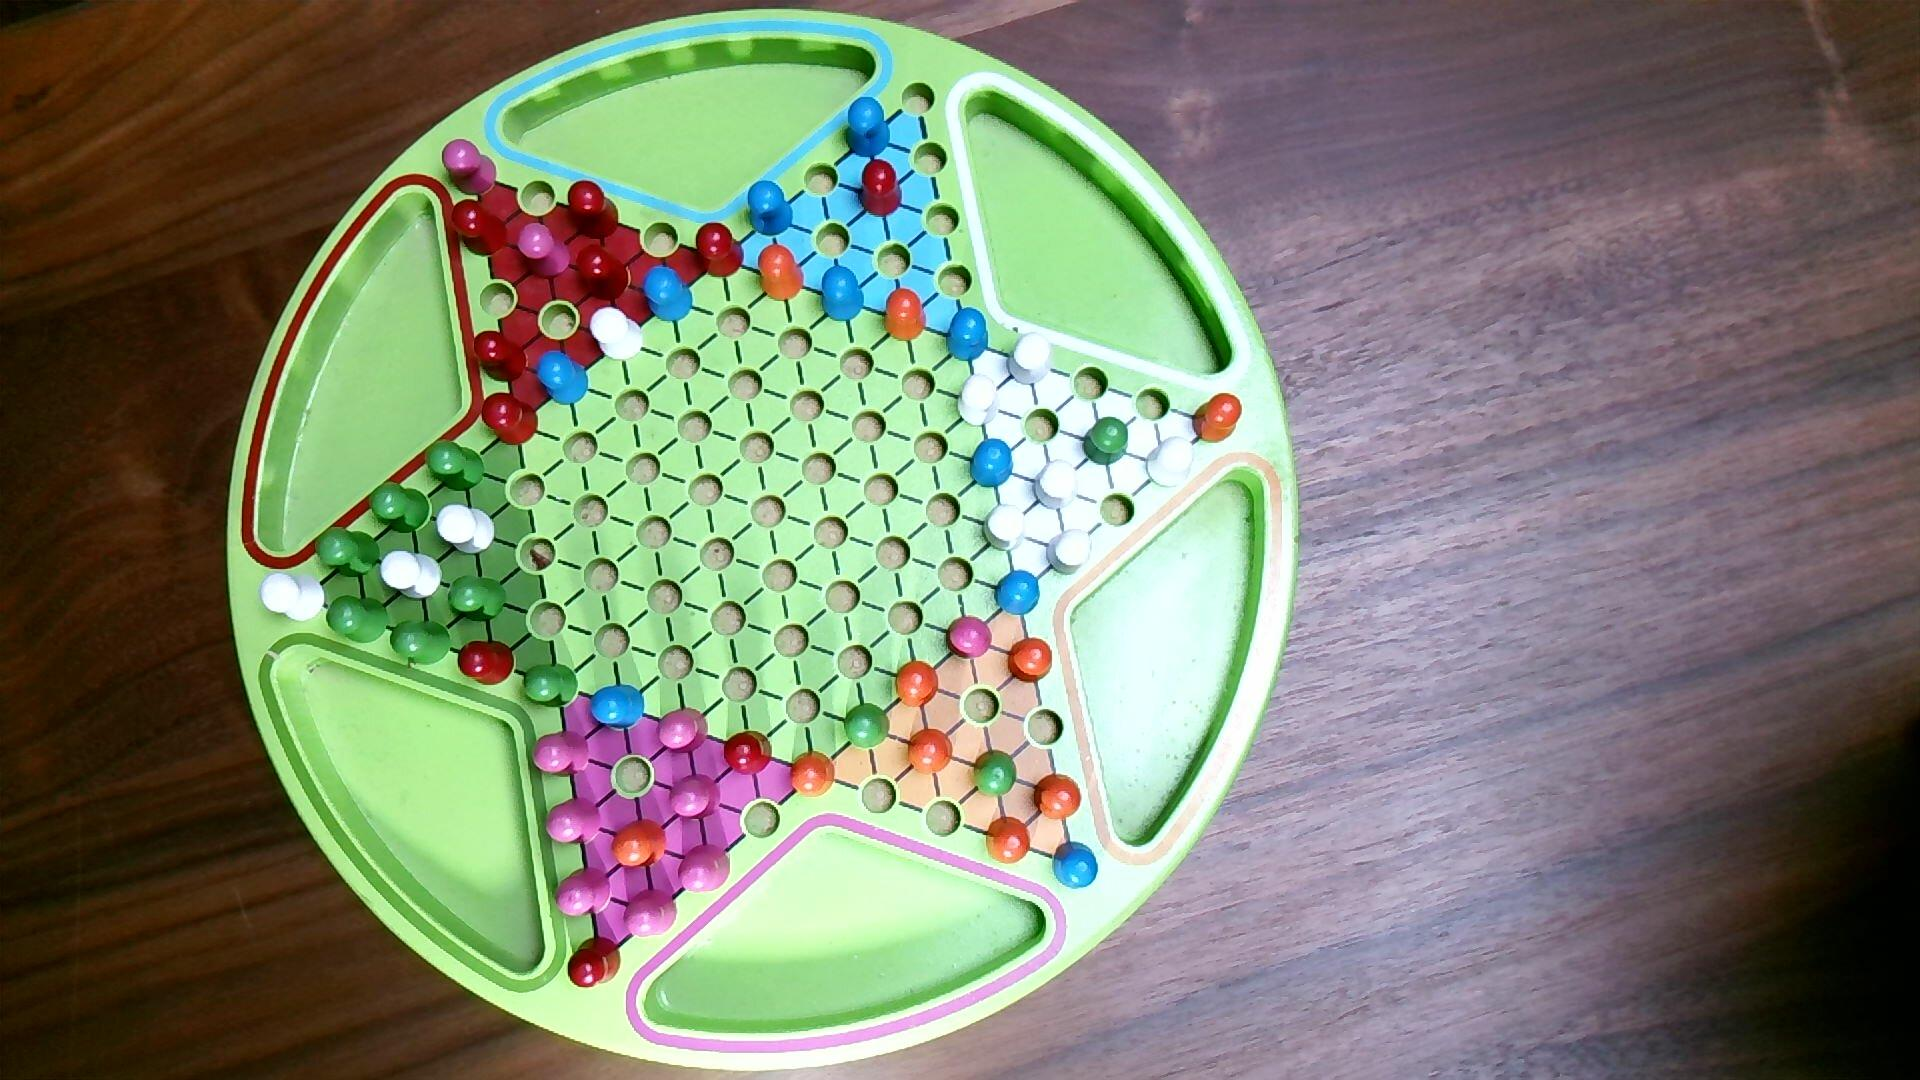B: (531, 347, 591, 409), (640, 261, 695, 324), (587, 680, 647, 735), (843, 95, 893, 160), (746, 178, 796, 240), (819, 262, 866, 326), (944, 306, 993, 364), (1051, 839, 1102, 893), (967, 436, 1015, 491), (993, 568, 1043, 618)
G: (313, 524, 382, 582), (367, 479, 434, 537), (422, 436, 487, 495), (324, 593, 392, 646), (444, 574, 510, 626), (520, 659, 582, 713), (389, 617, 454, 669), (1081, 413, 1131, 469), (972, 746, 1021, 800), (843, 702, 893, 752)
O: (611, 816, 670, 874), (756, 241, 807, 305), (1189, 392, 1245, 446), (1031, 769, 1085, 823), (881, 286, 930, 345), (785, 748, 837, 800), (906, 727, 956, 778), (984, 815, 1033, 866), (894, 657, 942, 709), (1007, 636, 1056, 686)
R: (448, 196, 510, 260), (574, 241, 633, 303), (480, 390, 541, 448), (566, 934, 624, 992), (472, 328, 530, 386), (694, 220, 746, 282), (567, 177, 620, 237), (856, 157, 906, 220), (458, 637, 518, 688), (723, 729, 775, 779)
R2: (440, 137, 500, 199), (553, 865, 615, 920), (516, 222, 574, 280), (545, 794, 604, 851), (621, 886, 680, 942), (531, 728, 592, 781), (676, 843, 735, 895), (655, 704, 711, 758), (667, 771, 724, 824), (944, 613, 994, 663)
W: (257, 568, 328, 626), (589, 305, 647, 367), (436, 502, 498, 559), (380, 549, 444, 603), (1142, 433, 1199, 493), (1006, 328, 1056, 388), (953, 371, 1004, 430), (1031, 456, 1083, 509), (1044, 527, 1095, 579), (981, 502, 1030, 554)
